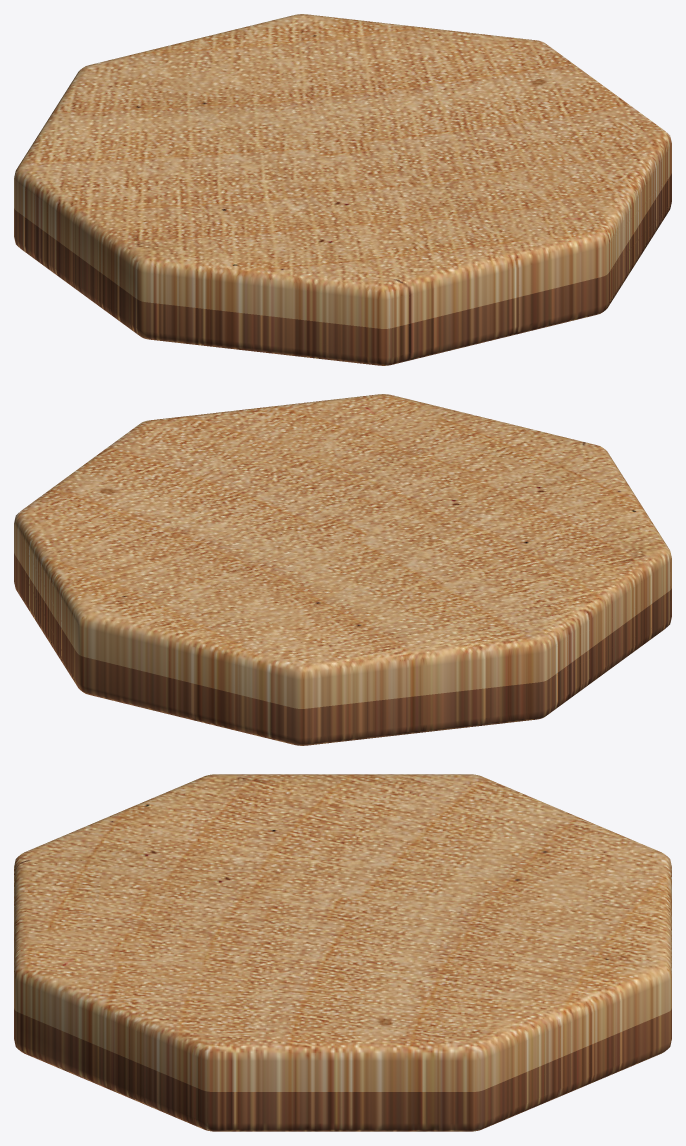
The model's file is OctogonHighPoly.FBX.
3 renders of one model, top to bottom at view 1: azimuth 30°, elevation 25°; view 2: azimuth 150°, elevation 25°; view 3: azimuth 270°, elevation 25°, orthographic. The views are drawn at different scales.
Parts seen in each view (by area): view 1: OctogonHighPoly; view 2: OctogonHighPoly; view 3: OctogonHighPoly.
Boxes of the visible parts, x1,y1,x2,y2 form: OctogonHighPoly: [14, 14, 671, 365]; OctogonHighPoly: [14, 394, 671, 745]; OctogonHighPoly: [14, 774, 671, 1131].
Bounding box in the file's own units: 24.15 × 3.51 × 24.15.
